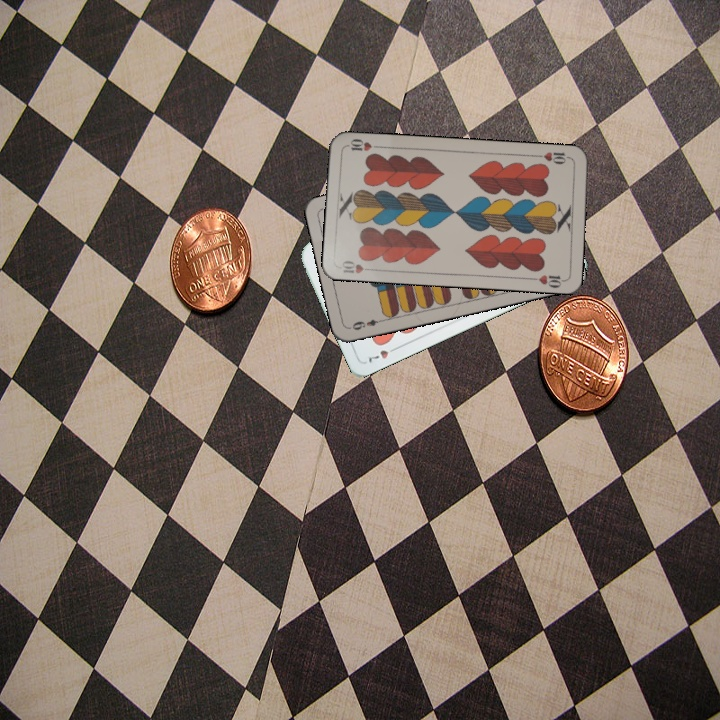E9: (346, 315, 386, 333)
H10: (338, 256, 377, 276), (532, 148, 573, 167)
H7: (364, 343, 401, 366)
